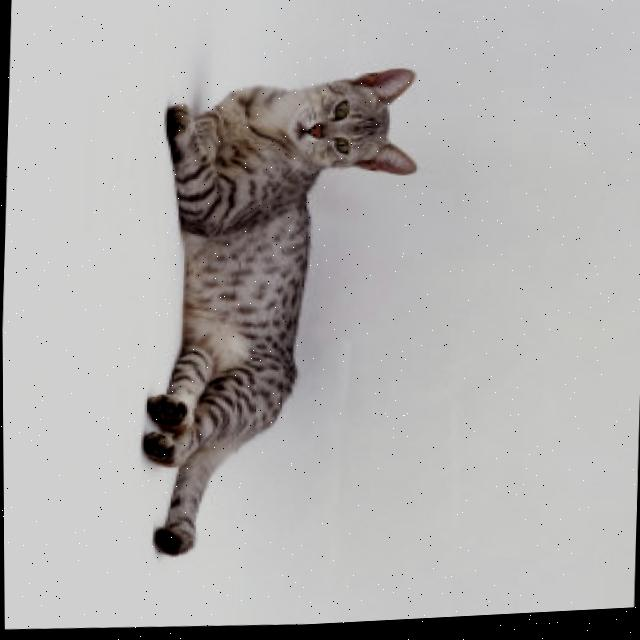Egyptian Mau: (128, 60, 429, 568)
